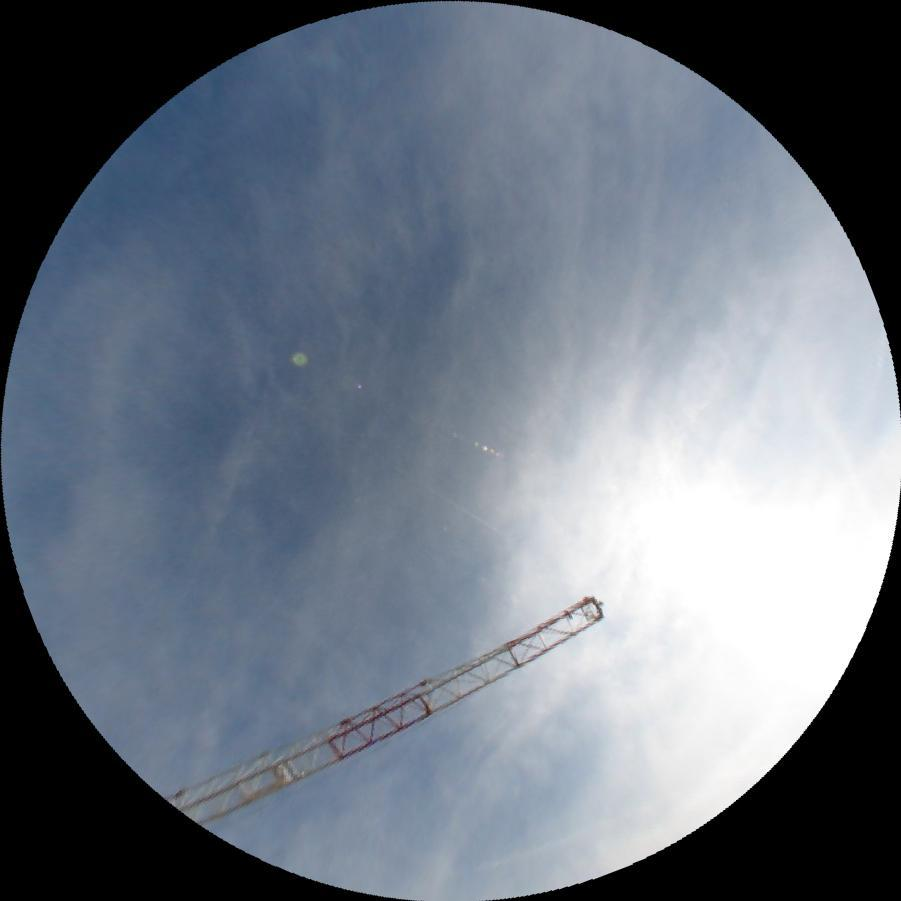contrail young: (280, 389, 499, 533)
